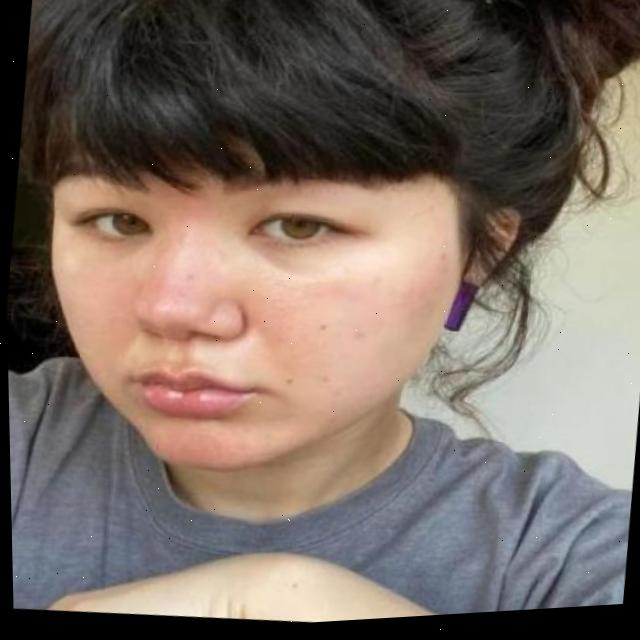Acne: (285, 308, 378, 413)
